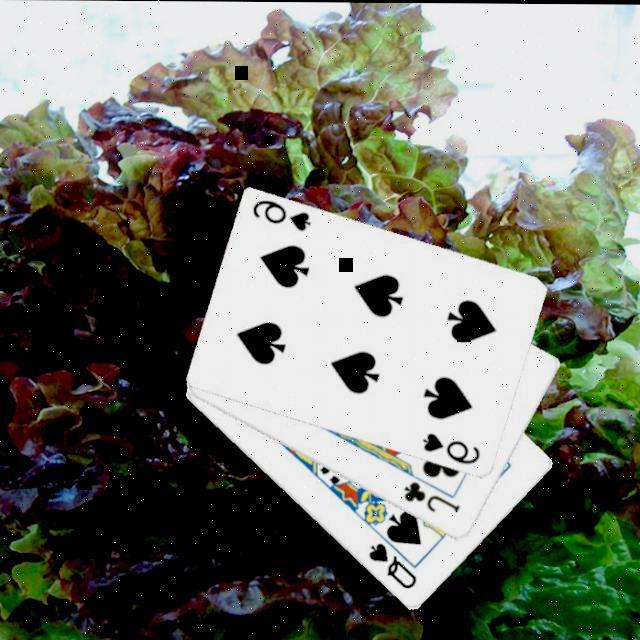6S: (421, 428, 485, 466), (252, 196, 316, 233)
JC: (401, 476, 465, 514)
QS: (367, 539, 422, 591)
